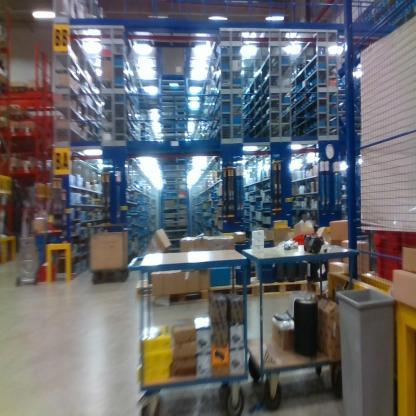pallets: (168, 273, 314, 309)
